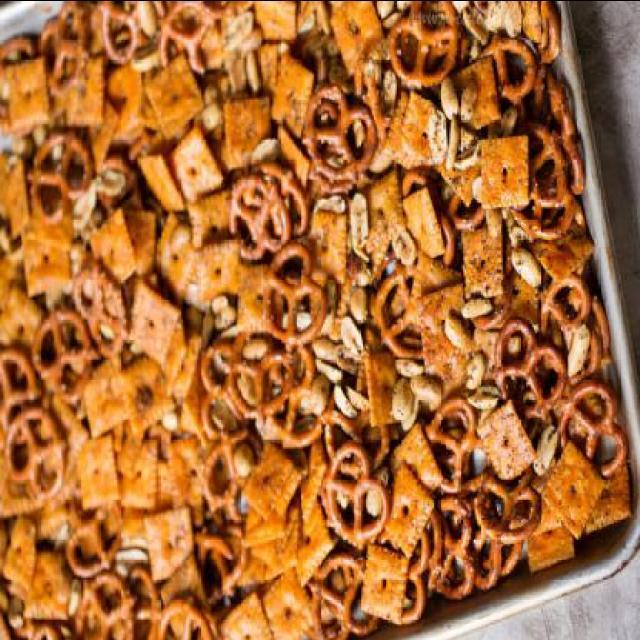Salatini packaged: (7, 11, 610, 632)
